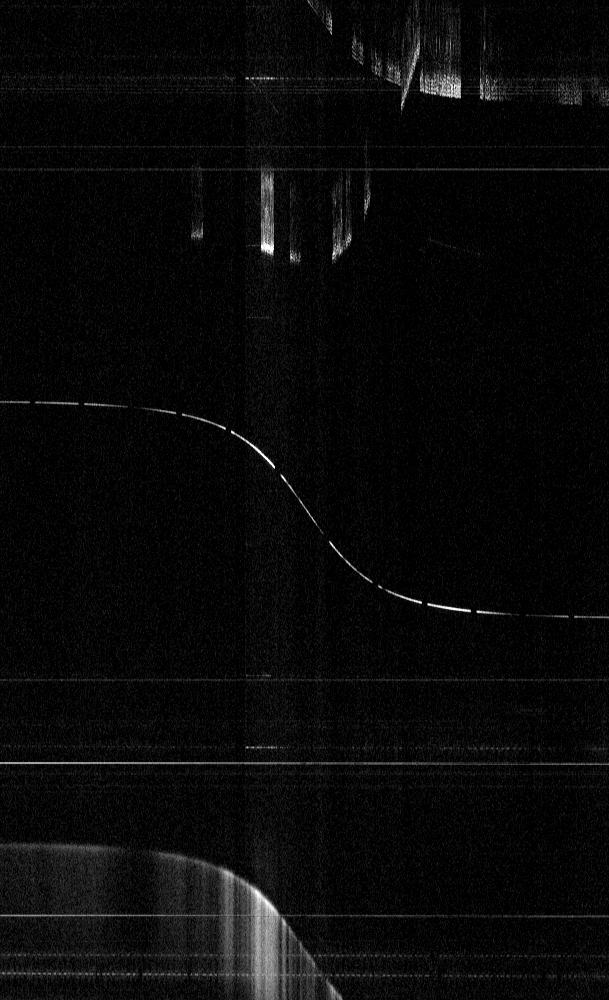signal: (0, 0, 608, 999)
